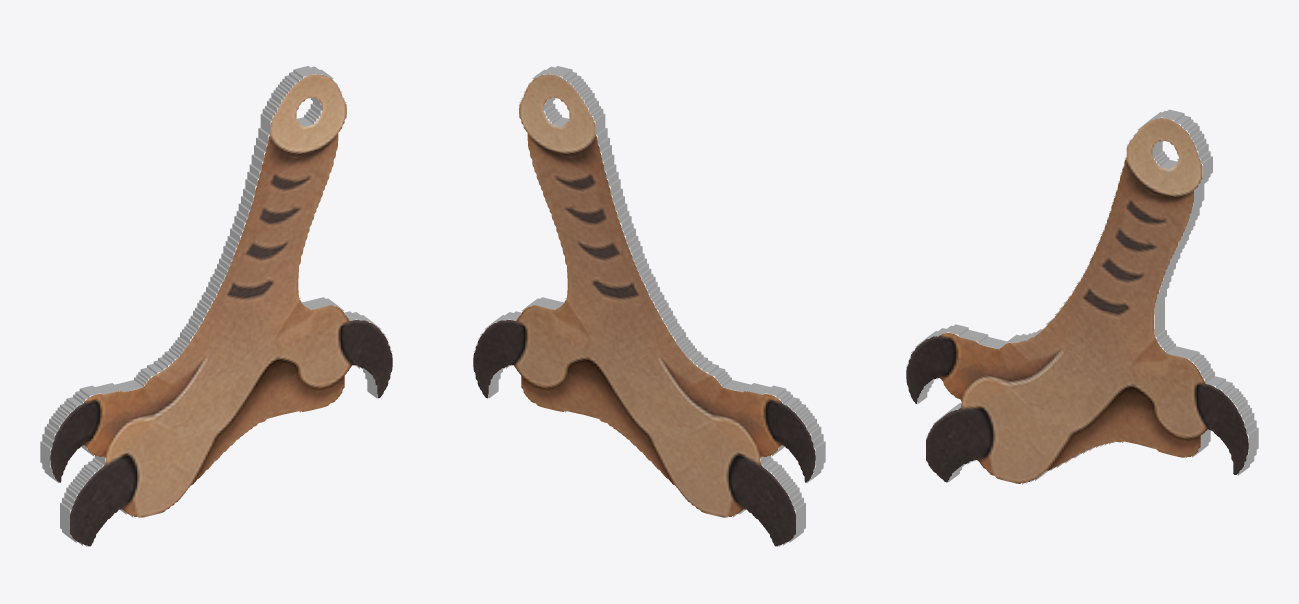
The model's file is Claw02.glb.
The picture shows the model from 3 angles, left to right: view 1: azimuth 30°, elevation 25°; view 2: azimuth 150°, elevation 25°; view 3: azimuth 330°, elevation 25°; orthographic projection.
Visible parts, largest first — view 1: PaperVolume; view 2: PaperVolume; view 3: PaperVolume.
Part boxes in pixels (left/top/right/bottom): PaperVolume: left=40, top=66, right=392, bottom=546; PaperVolume: left=473, top=66, right=825, bottom=546; PaperVolume: left=906, top=109, right=1258, bottom=484.
Bounding box in the file's own units: 1.81 × 2.07 × 0.08.
Materials: 3 (2 with a texture image).
